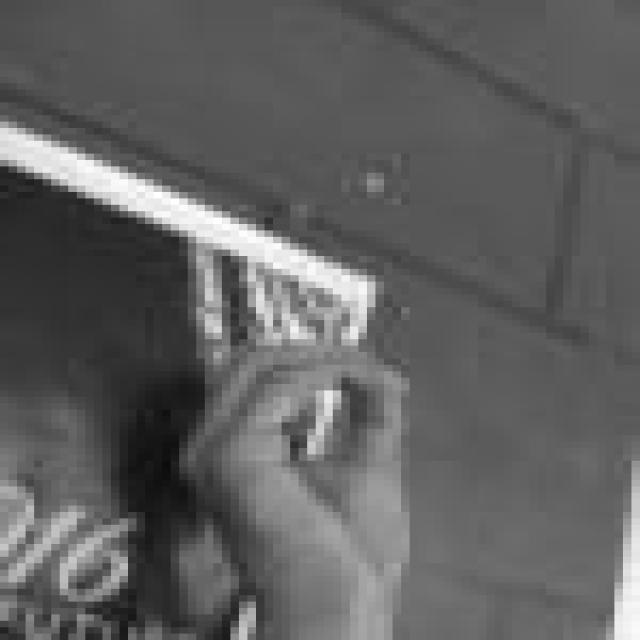O: (171, 336, 435, 598)
